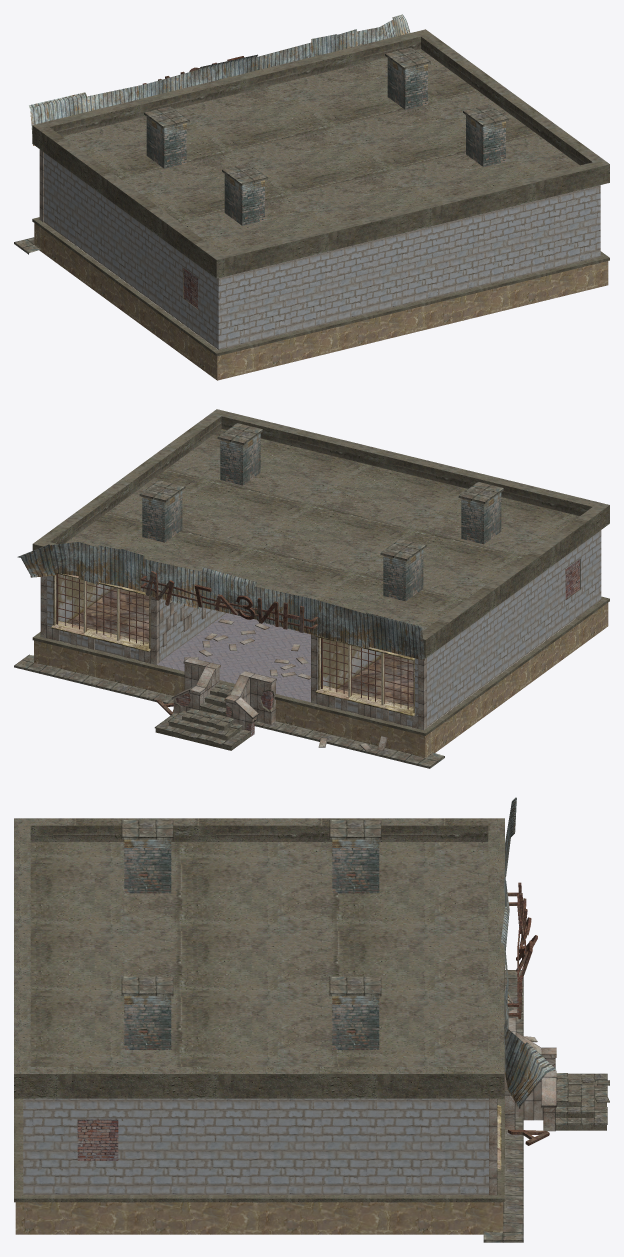
The model's file is AbandonedMarket.fbx.
The picture shows the model from 3 angles, top to bottom: view 1: azimuth 30°, elevation 25°; view 2: azimuth 150°, elevation 25°; view 3: azimuth 270°, elevation 25°; orthographic projection. The views are drawn at different scales.
Parts seen in each view (by area): view 1: Krisha, Wall, Fundament, Metall_List; view 2: Krisha, Fundament, Wall, Metall_List, Krilzho, Windows, Plitka_decal, Wall_interior, Magazin, PlitkaFasad; view 3: Krisha, Wall, Fundament, Krilzho, Metall_List, Magazin, PlitkaFasad.
Part boxes in pixels (x1,y1,x2,y2): Krisha: (32,29,609,278); Wall: (43,152,600,349); Fundament: (32,217,609,380); Metall_List: (29,14,410,145); Krisha: (32,409,609,658); Fundament: (32,588,609,758); Wall: (47,530,601,726); Metall_List: (17,542,424,660); Krilzho: (14,654,444,768); Windows: (51,573,415,716); Plitka_decal: (46,602,418,750); Wall_interior: (58,574,385,688); Magazin: (140,571,318,715); PlitkaFasad: (40,576,426,730); Krisha: (14,818,504,1098); Wall: (23,1098,488,1194); Fundament: (14,991,504,1234); Krilzho: (483,970,609,1242); Metall_List: (501,797,555,1108); Magazin: (507,882,549,1145); PlitkaFasad: (489,1098,497,1195).
Bounding box in the file's own units: 1978 × 693 × 1843.
